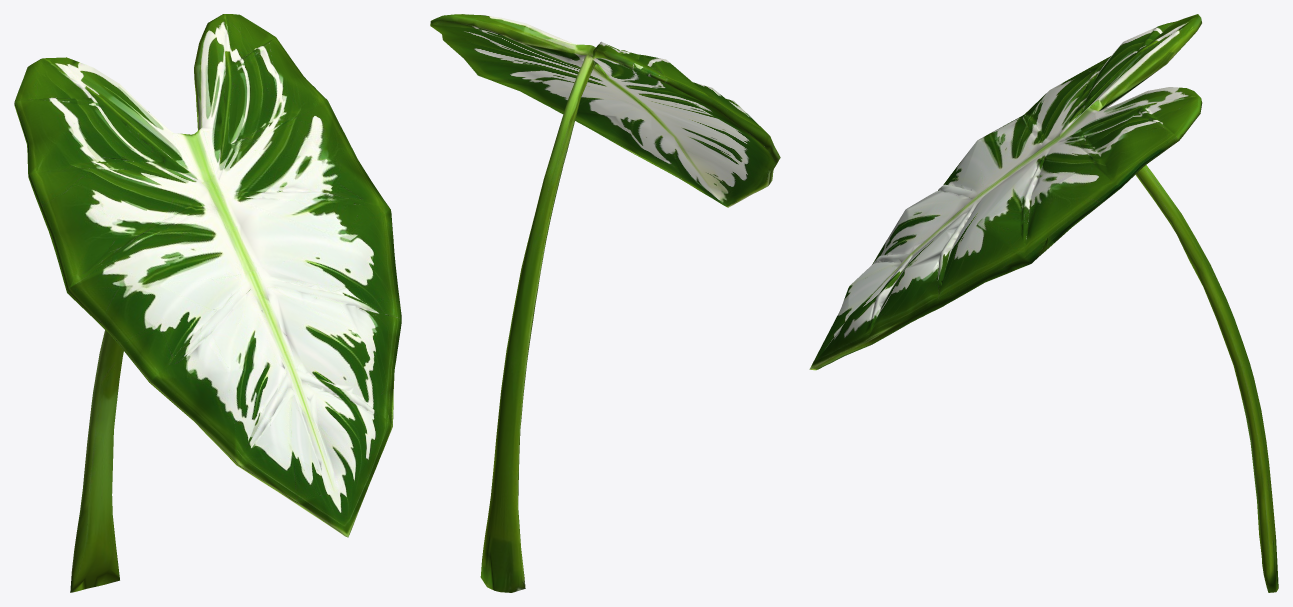
The model's file is al_leaf_mid_creamcenter.glb.
The picture shows the model from 3 angles, left to right: view 1: azimuth 30°, elevation 25°; view 2: azimuth 150°, elevation 25°; view 3: azimuth 270°, elevation 25°; orthographic projection. The views are drawn at different scales.
Bounding box in the file's own units: 1.09 × 1.9 × 1.52.
Materials: 1 (1 with a texture image).
